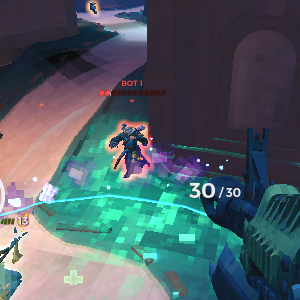model: (111, 116, 149, 182)
